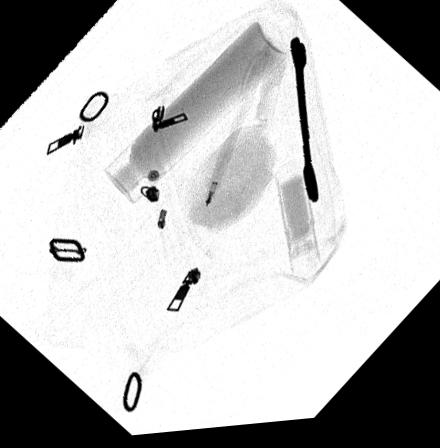Wrench: (289, 41, 321, 208)
